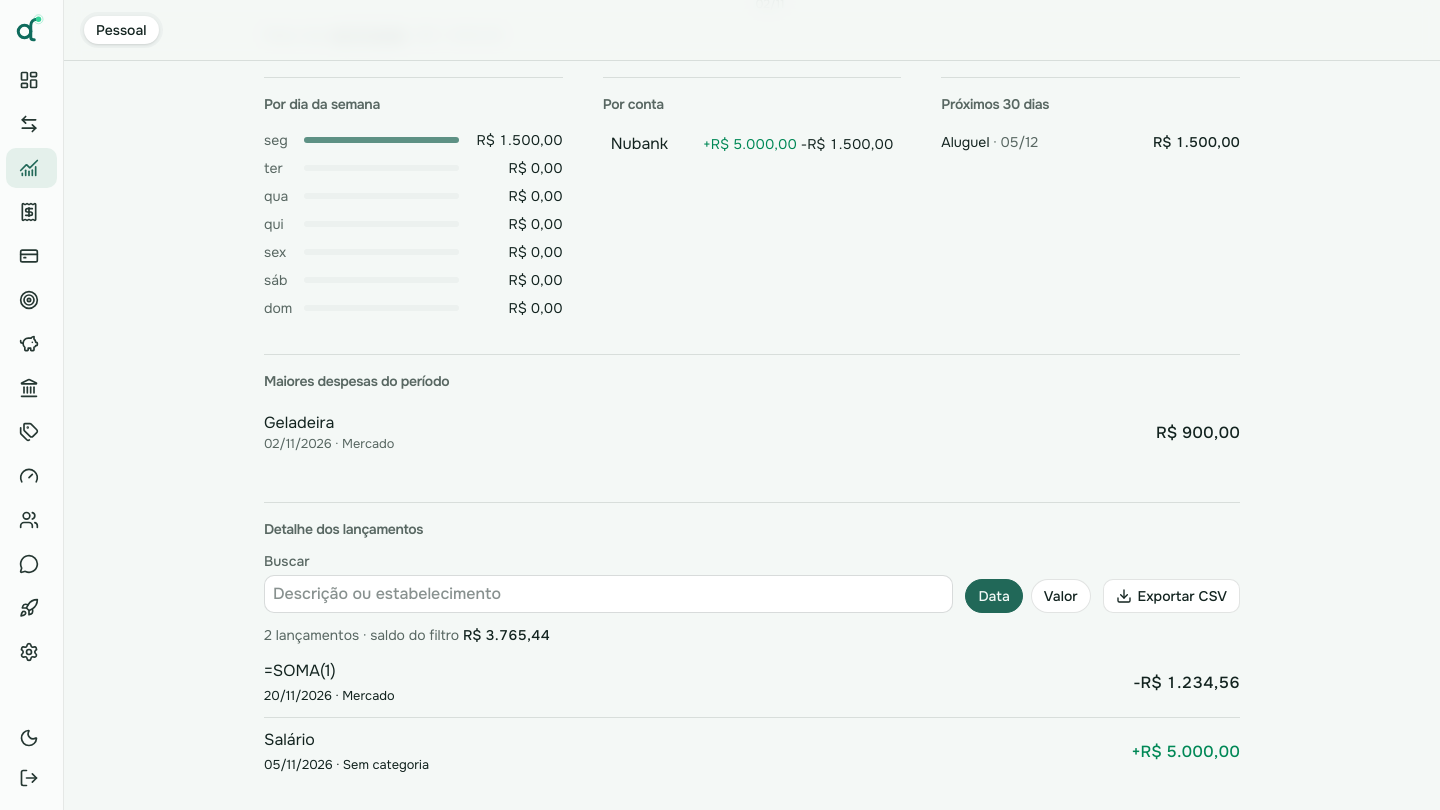
detalhe: busca, total do filtro e ordenação
(page scrolled)
Expected: the text "2 lançamentos · saldo do filtro R$ 3.765,44" is shown, [264,626,550,644]
Type "salár" into the search field labelled "Buscar". click: (609, 594)
box: [264,575,953,613]
(page scrolled)
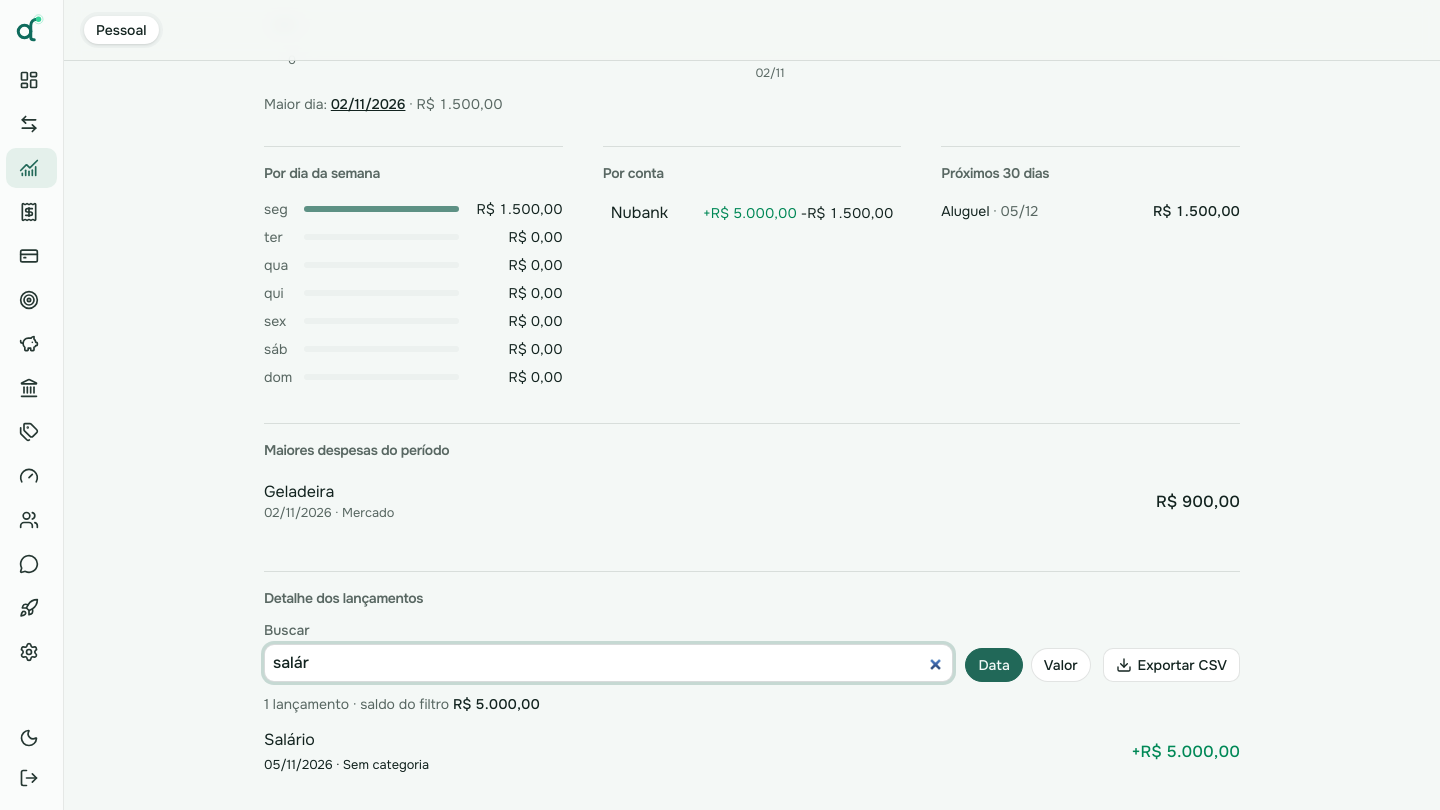
Now the text "1 lançamento · saldo do filtro R$ 5.000,00" is shown, box [264,695,540,713]
